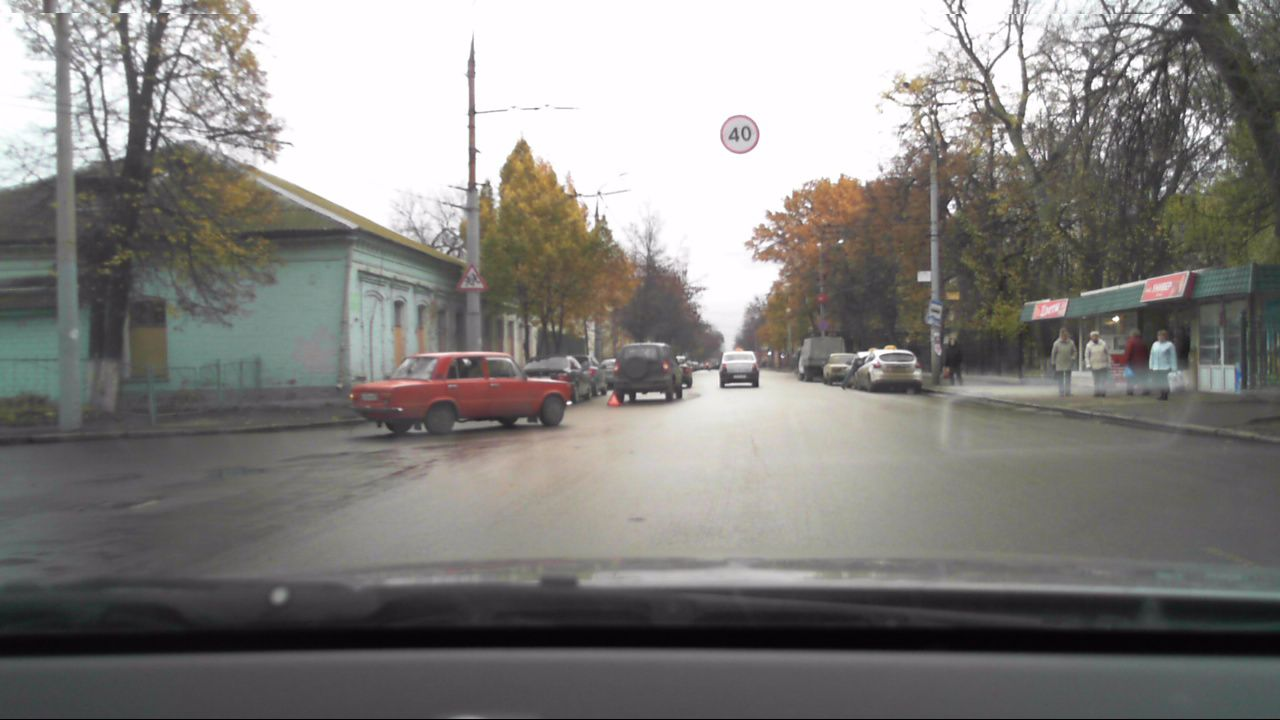speed_warning_40: (719, 115, 760, 154)
